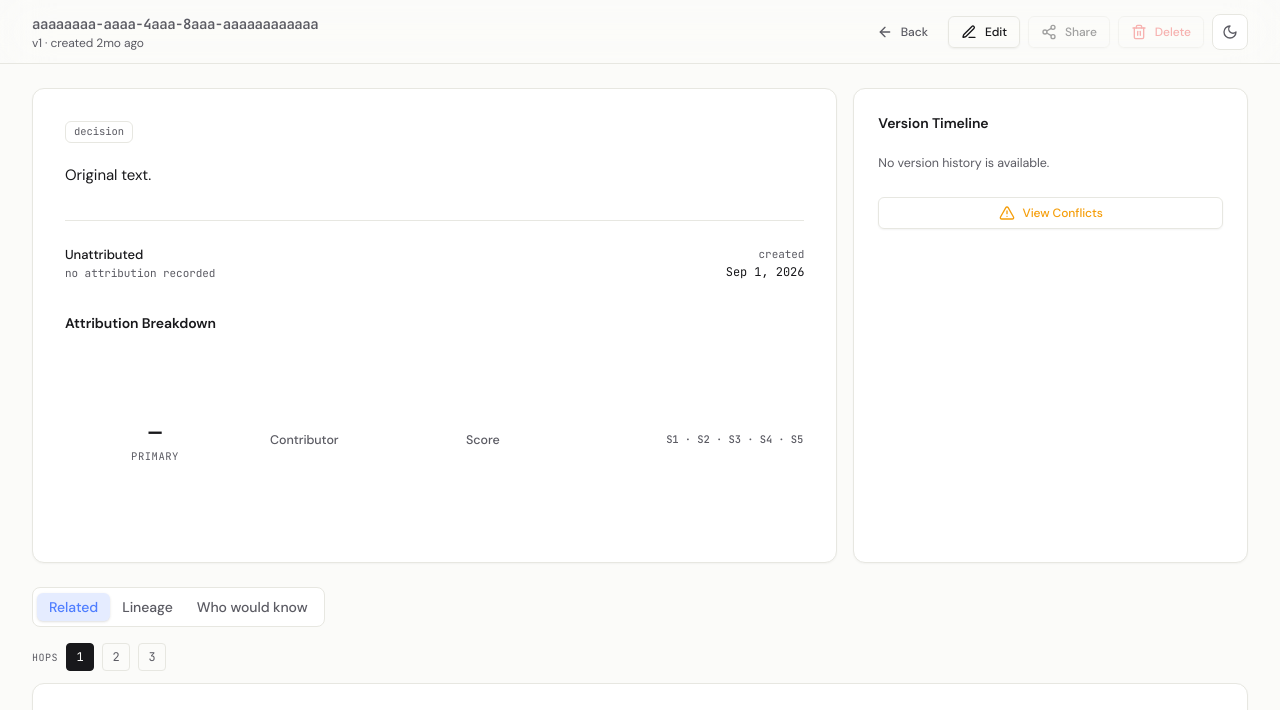
Test: a PATCH answered source_retired › with zero candidates it says so plainly, keeps the draft, and offers no re-apply
Click the button with test id "mem-edit": x=984, y=32 [948,16,1020,48]
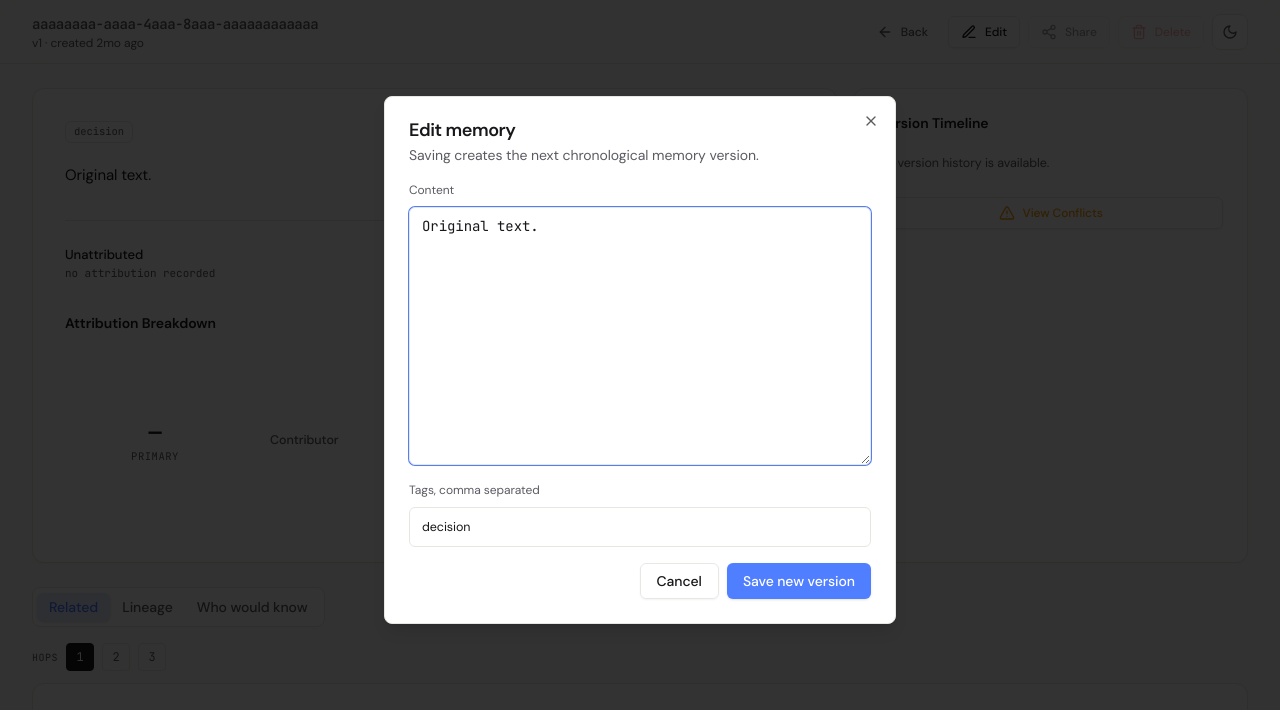
Replace the text in the text box with test id "memory-edit-content" with "Nothing to apply this to.": x=640, y=336 [409,207,871,465]
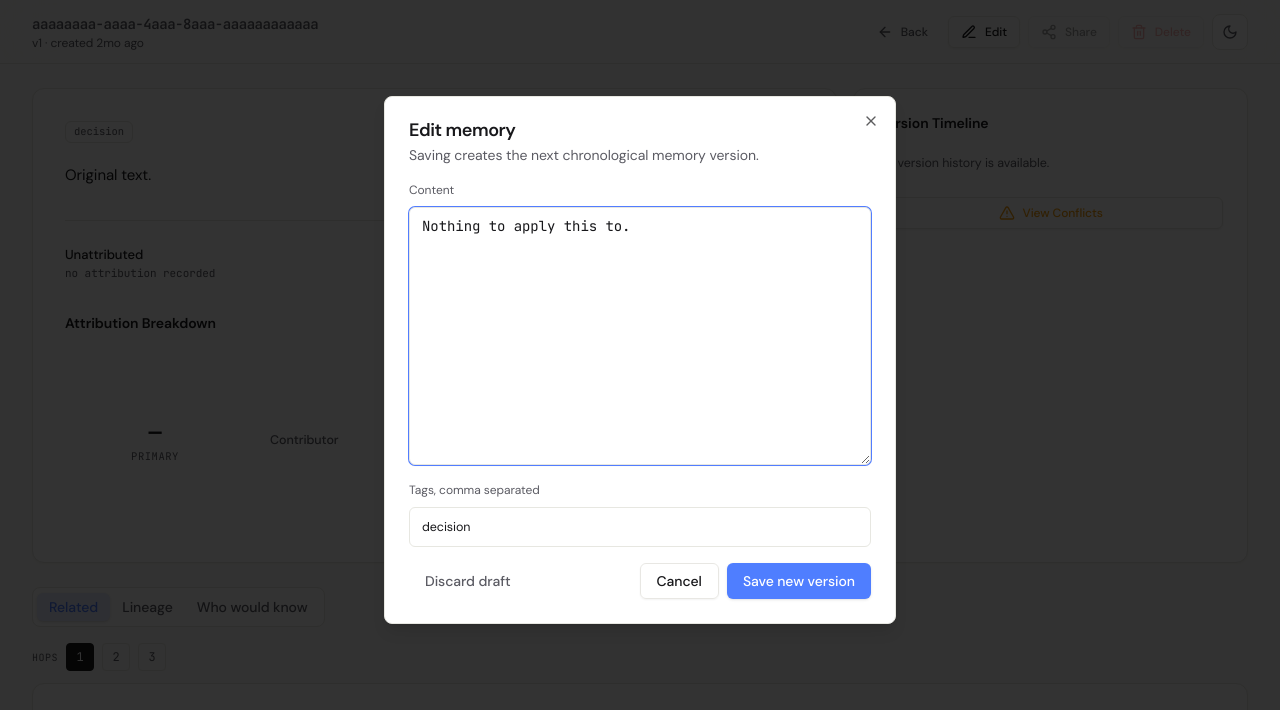
Click the button with test id "memory-edit-save": x=799, y=581 [727,563,871,599]
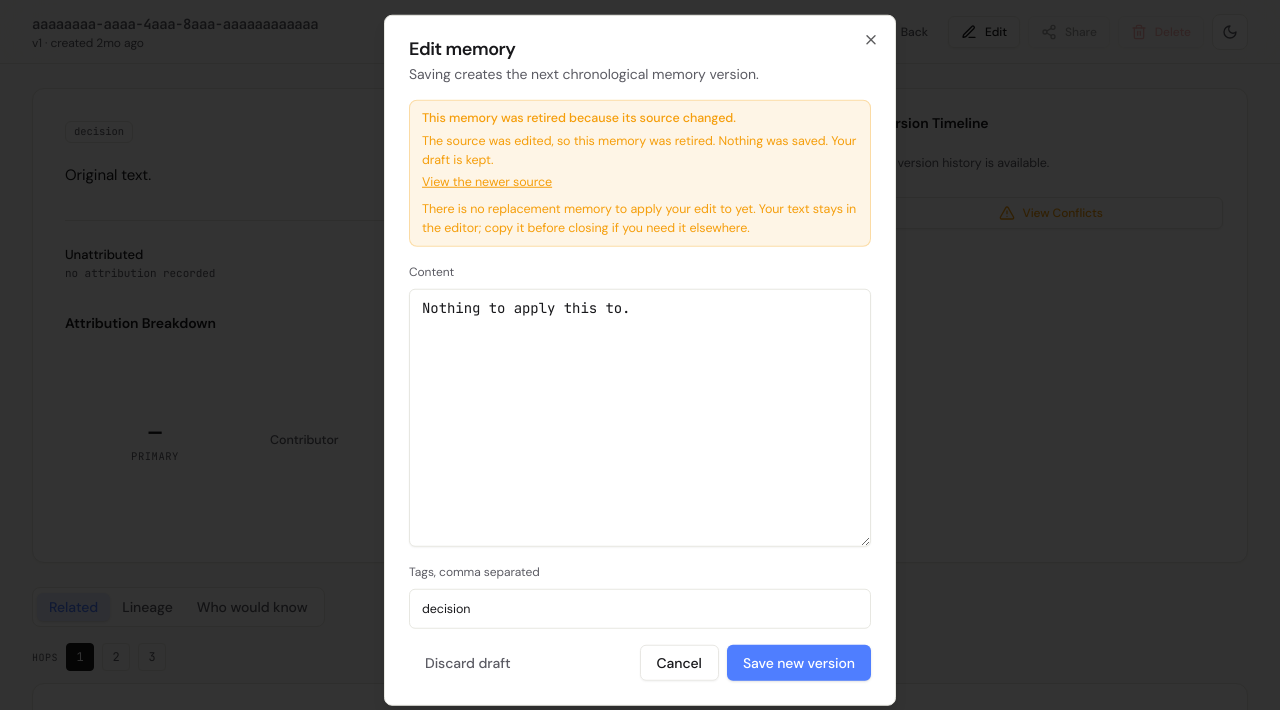
expect the text with test id "memory-retired-no-candidates" shows "no replacement memory": met, box [422,201,856,236]
